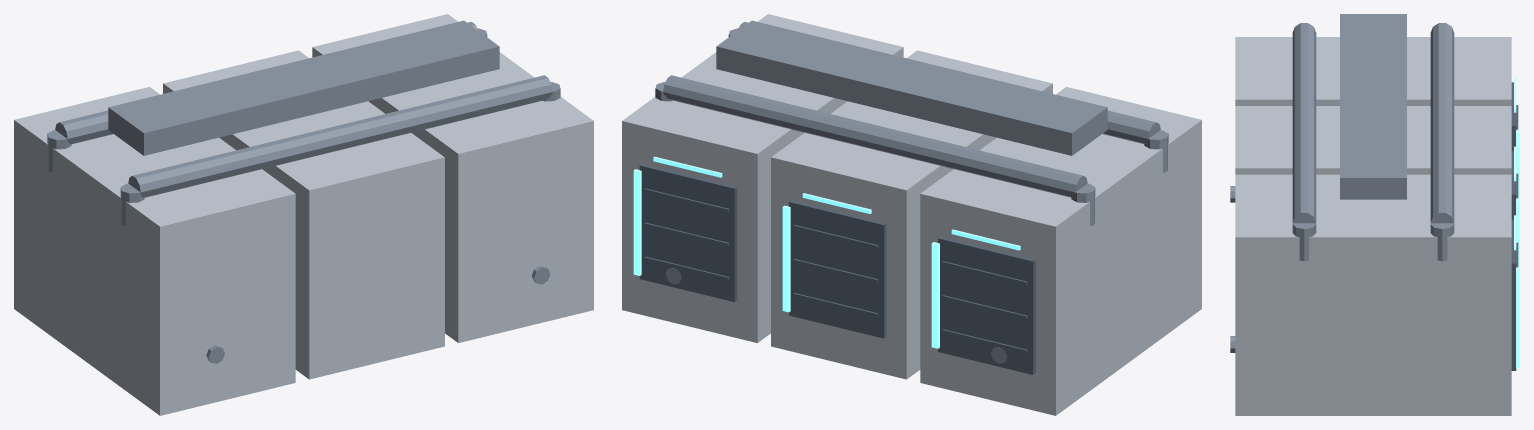
The model's file is eclss.glb.
3 renders of one model, left to right at view 1: azimuth 30°, elevation 25°; view 2: azimuth 150°, elevation 25°; view 3: azimuth 270°, elevation 25°, orthographic. The views are drawn at different scales.
Visible parts, largest first — view 1: rack_0, rack_1, rack_2, top_filter_duct, pipe_top_b, pipe_top_a, world; view 2: rack_0, rack_1, rack_2, top_filter_duct, pipe_top_a, grille_1, grille_2, grille_0, pipe_top_b, world, status_strip_2, status_strip_0 (+1 smaller); view 3: rack_2, top_filter_duct, rack_0, rack_1, pipe_top_b, pipe_top_a, world, grille_2, status_strip_2, grille_1, grille_0.
Part boxes in pixels (left/top/right/bottom): rack_0: left=14, top=87, right=295, bottom=415; rack_1: left=163, top=50, right=444, bottom=379; rack_2: left=312, top=14, right=593, bottom=342; top_filter_duct: left=108, top=20, right=499, bottom=155; pipe_top_b: left=128, top=75, right=552, bottom=197; pipe_top_a: left=55, top=21, right=478, bottom=143; world: left=47, top=28, right=560, bottom=226; rack_0: left=920, top=87, right=1201, bottom=415; rack_1: left=771, top=50, right=1052, bottom=379; rack_2: left=622, top=14, right=903, bottom=342; top_filter_duct: left=716, top=20, right=1107, bottom=155; pipe_top_a: left=663, top=75, right=1087, bottom=197; grille_1: left=789, top=200, right=886, bottom=338; grille_2: left=639, top=164, right=737, bottom=302; grille_0: left=938, top=236, right=1035, bottom=374; pipe_top_b: left=737, top=21, right=1160, bottom=143; world: left=655, top=28, right=1168, bottom=226; status_strip_2: left=633, top=169, right=641, bottom=275; status_strip_0: left=931, top=242, right=939, bottom=348; rack_2: left=1235, top=174, right=1511, bottom=415; top_filter_duct: left=1340, top=14, right=1406, bottom=199; rack_0: left=1235, top=37, right=1511, bottom=105; rack_1: left=1235, top=106, right=1511, bottom=174; pipe_top_b: left=1292, top=23, right=1316, bottom=223; pipe_top_a: left=1430, top=23, right=1454, bottom=223; world: left=1292, top=32, right=1454, bottom=261; grille_2: left=1511, top=219, right=1516, bottom=370; status_strip_2: left=1516, top=267, right=1519, bottom=368; grille_1: left=1511, top=151, right=1516, bottom=219; grille_0: left=1511, top=82, right=1516, bottom=150.
Bounding box in the file's own units: 2.42 × 1.23 × 1.47.
